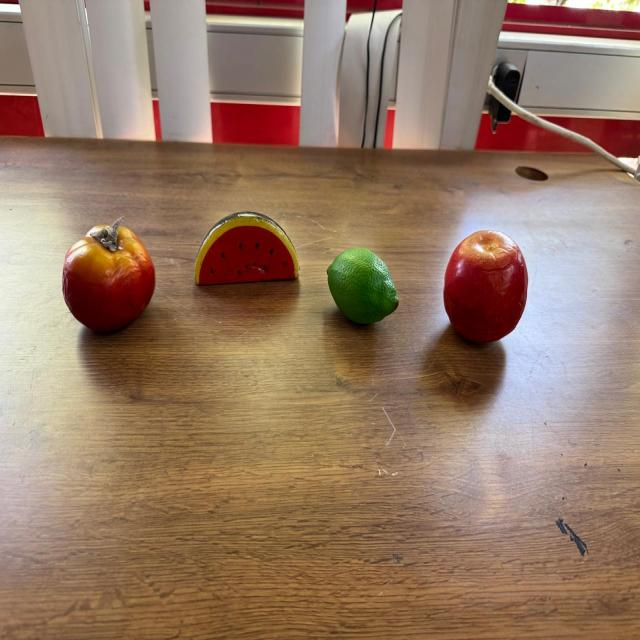apple: (444, 230, 529, 343)
lemon: (325, 246, 400, 324)
tomato: (60, 216, 157, 333)
watermelon: (195, 209, 300, 284)
